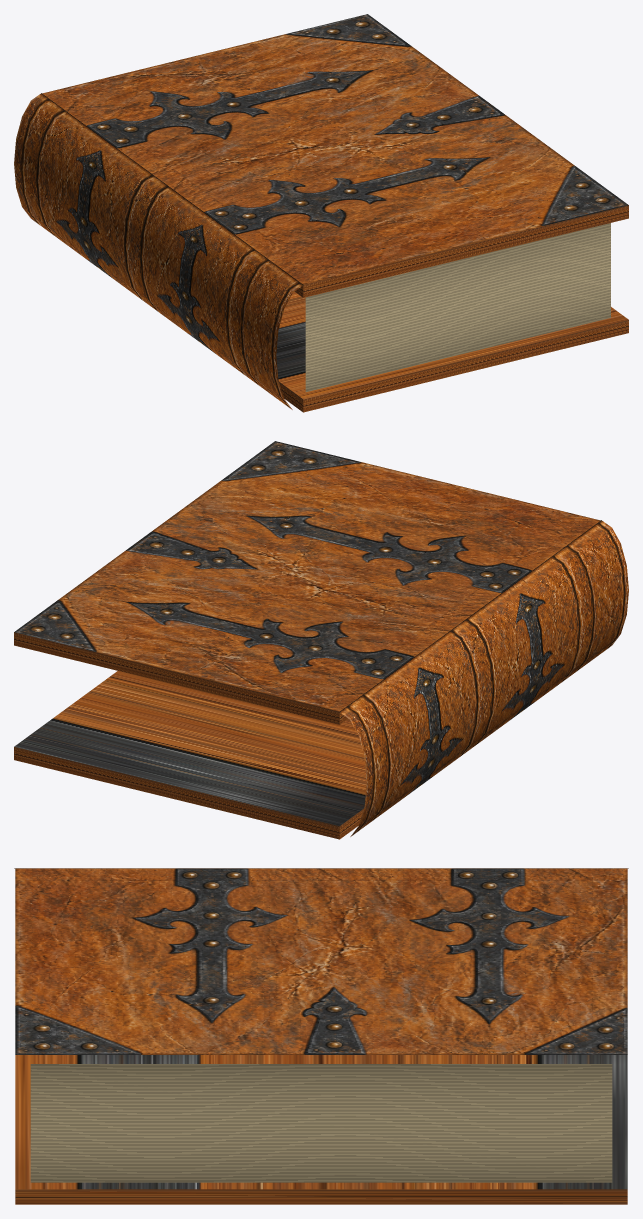
Rendered from item_item207.glb.
3 renders of one model, top to bottom at view 1: azimuth 30°, elevation 25°; view 2: azimuth 150°, elevation 25°; view 3: azimuth 270°, elevation 25°, orthographic. The views are drawn at different scales.
Visible parts, largest first — view 1: item207; view 2: item207; view 3: item207.
Part boxes in pixels (x1=…): item207: x1=14, y1=14, x2=628, y2=412; item207: x1=14, y1=441, x2=628, y2=839; item207: x1=14, y1=868, x2=628, y2=1204.
Size of the model in its own units: 0.7808 by 0.27 by 1.
1 material, 1 textured.
